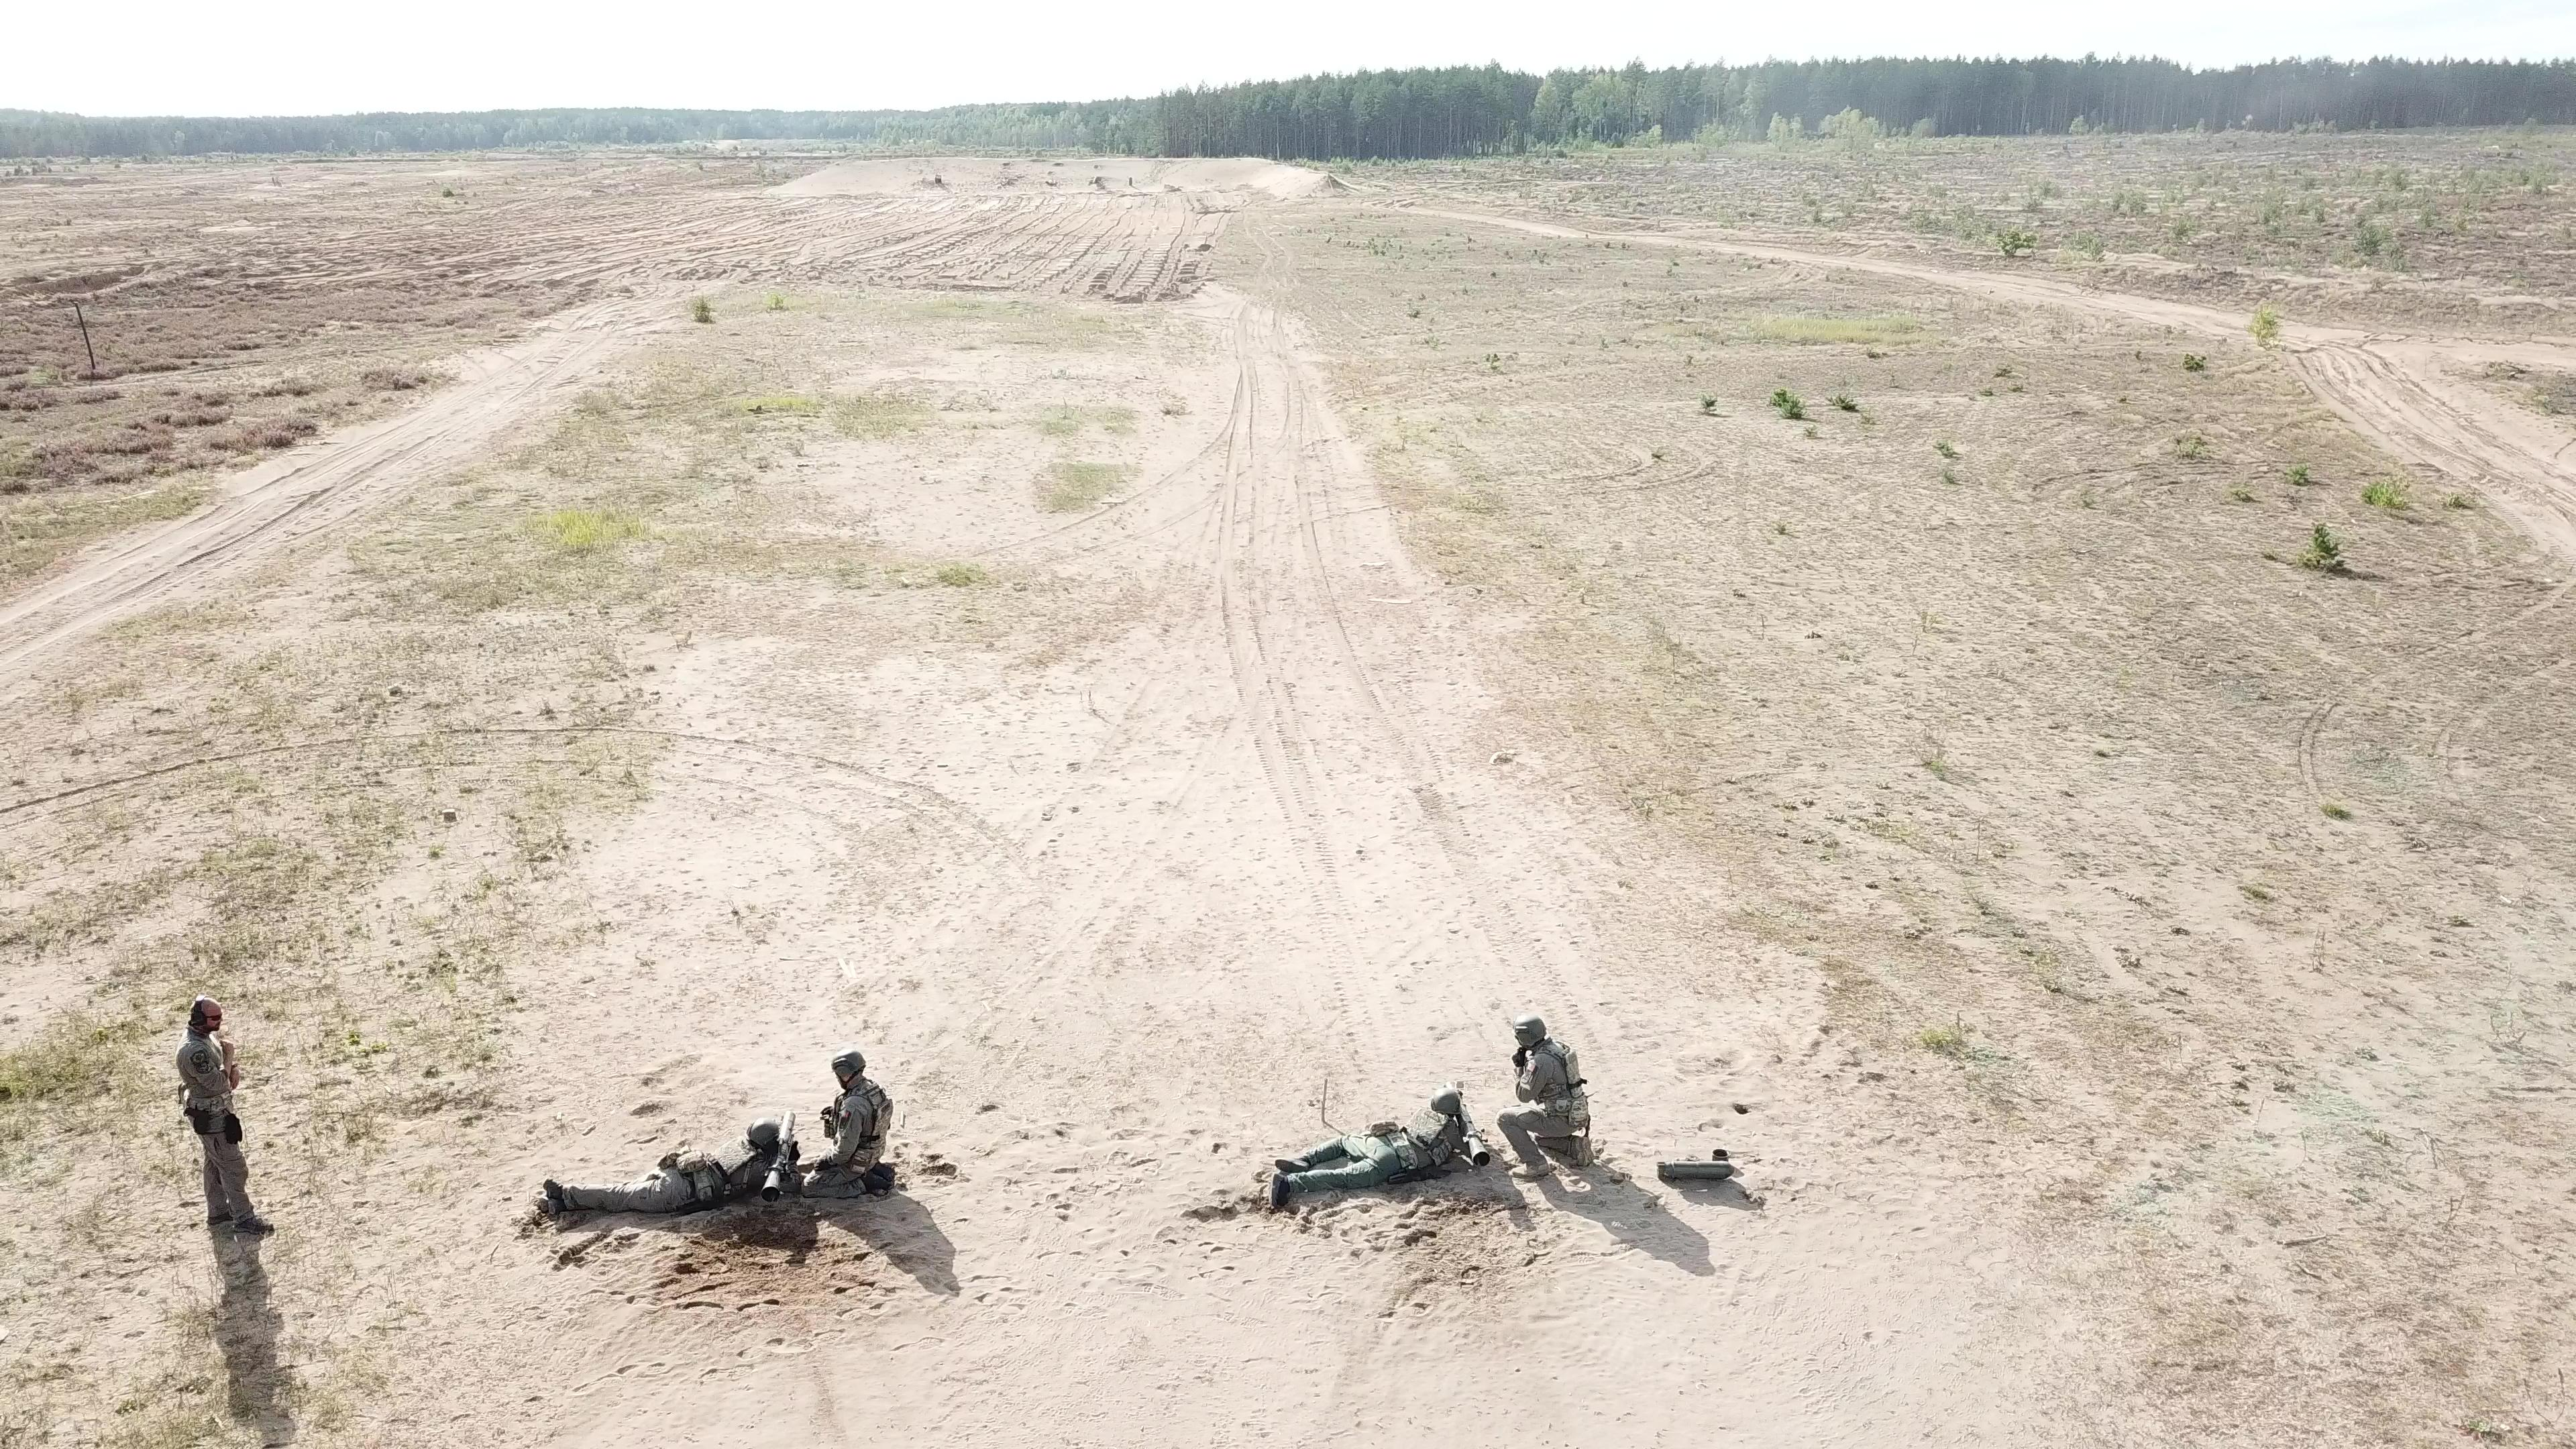Soldier: (534, 1106, 808, 1221), (1270, 1072, 1494, 1206), (172, 998, 274, 1238), (1497, 1010, 1595, 1180), (811, 1049, 898, 1205)
